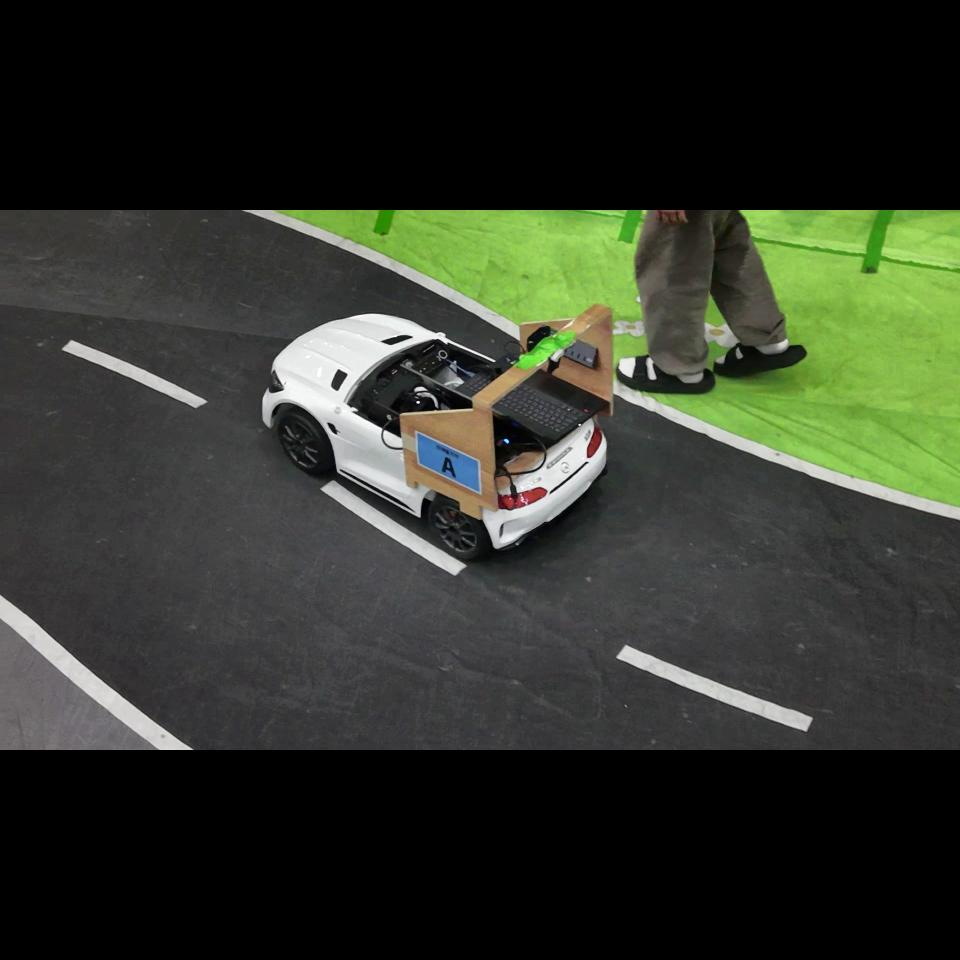broken_line: (615, 644, 814, 733), (320, 480, 468, 576), (61, 339, 208, 408)
